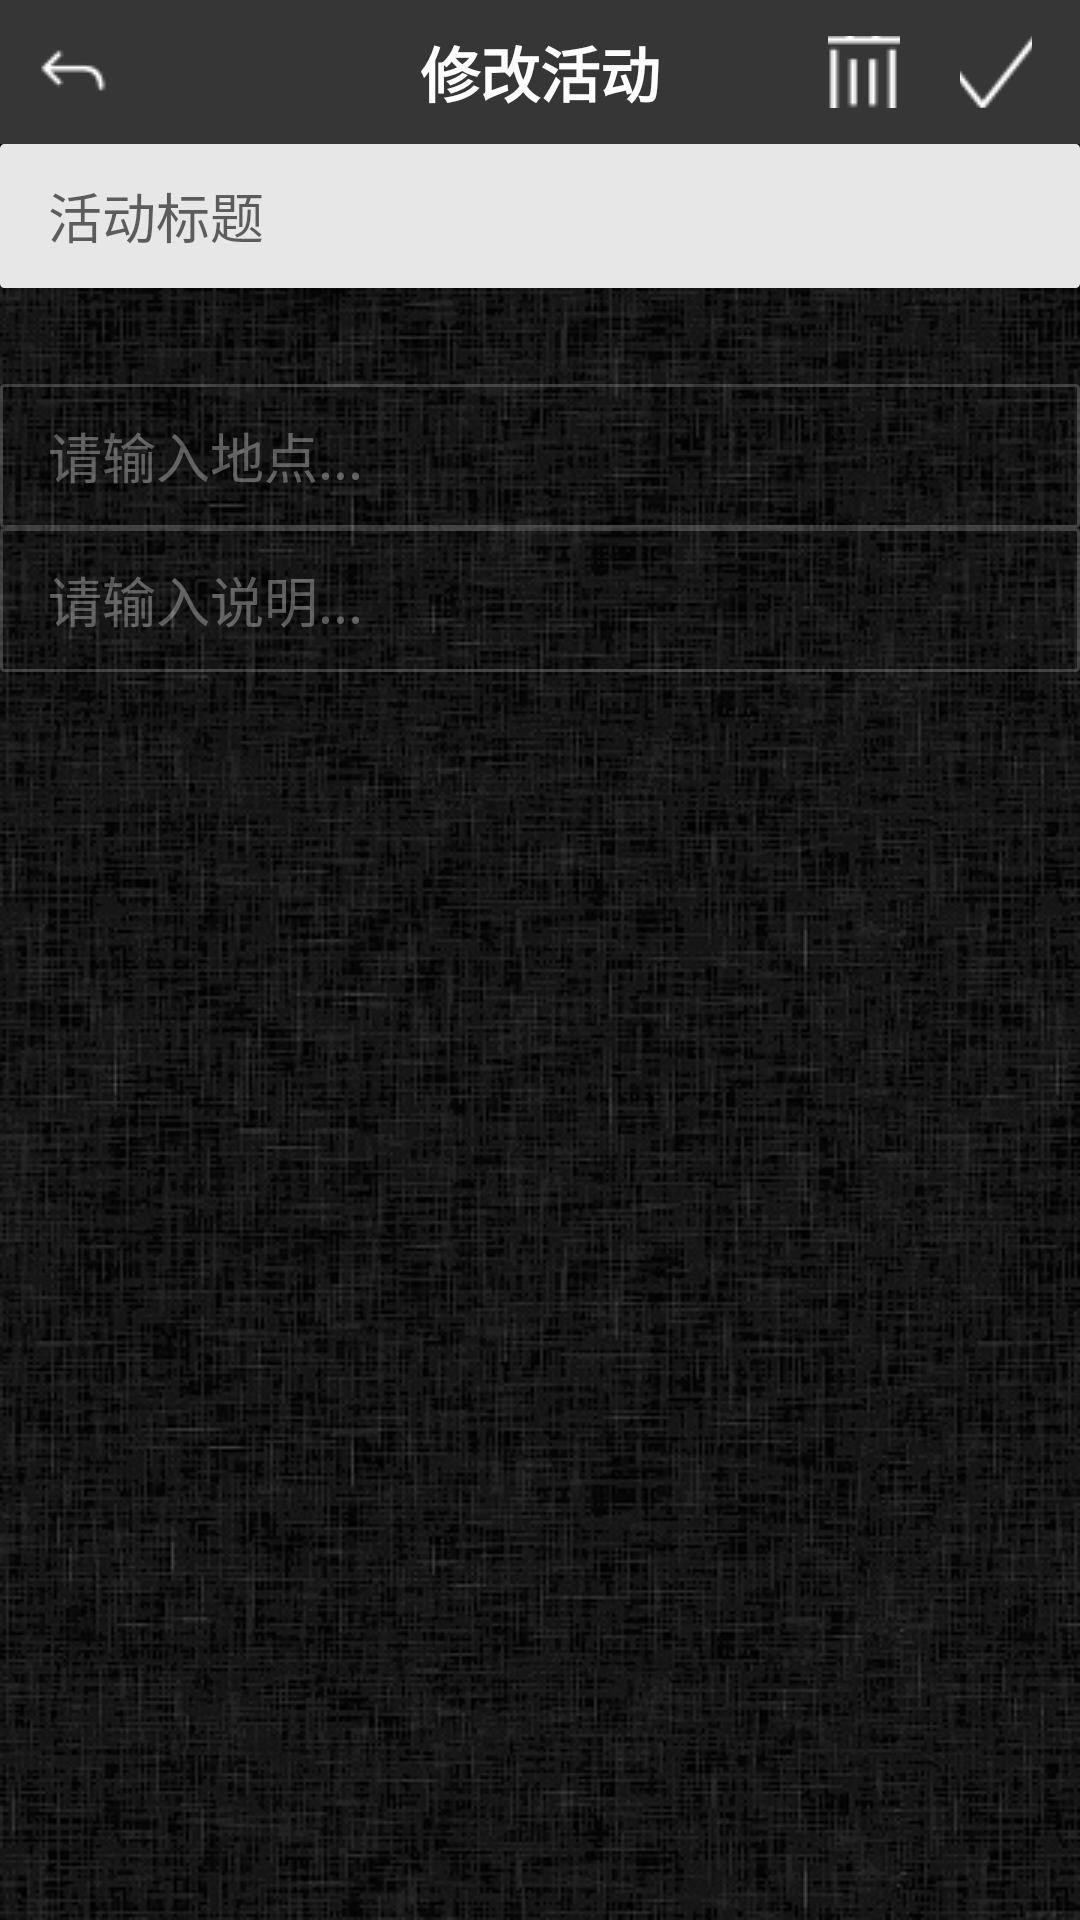

Locate icon controls on the screen. Image size 1080 x 1920, boxes as (x1, y1, x2, y2).
arrow back: (41, 50, 106, 91)
arrows check: (960, 36, 1032, 108)
delete: (828, 36, 900, 108)
